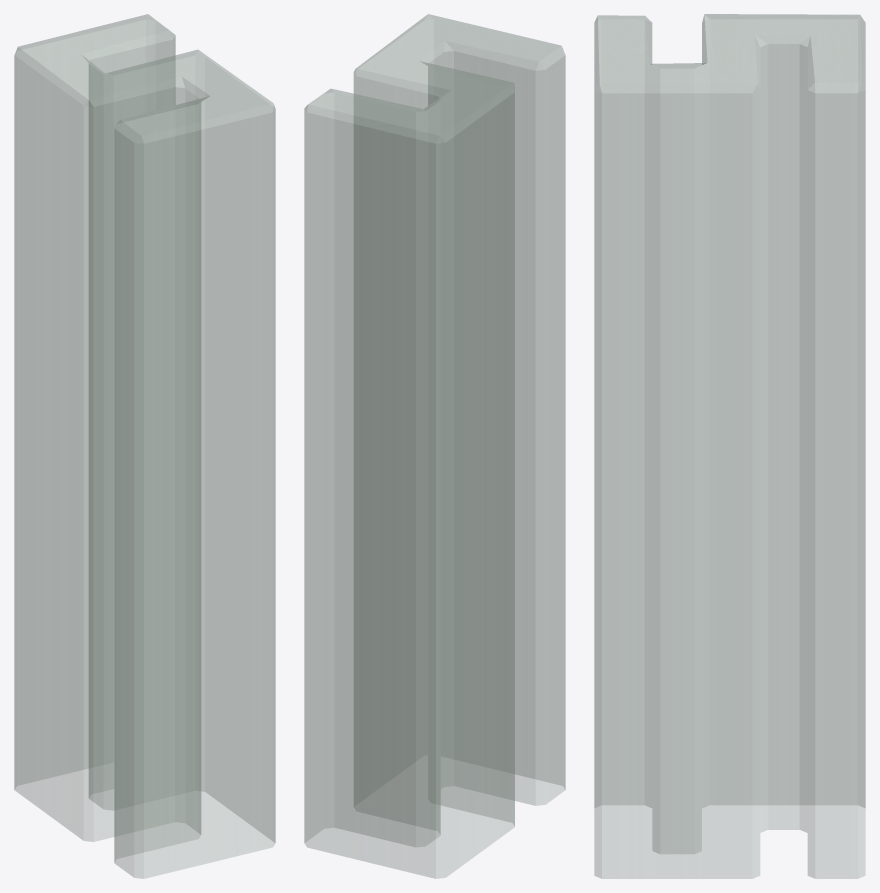
3 views of the same model, side by side, from view 1: azimuth 30°, elevation 25°; view 2: azimuth 150°, elevation 25°; view 3: azimuth 270°, elevation 25° (orthographic). The views are drawn at different scales.
Visible parts, largest first — view 1: S; view 2: S; view 3: S.
Boxes of the visible parts, x1,y1,x2,y2 form: S: (14, 14, 275, 878); S: (304, 14, 565, 878); S: (594, 14, 865, 878).
Size of the model in its own units: 0.3869 by 1.94 by 0.6019.
Materials: 1 (1 with a texture image).
